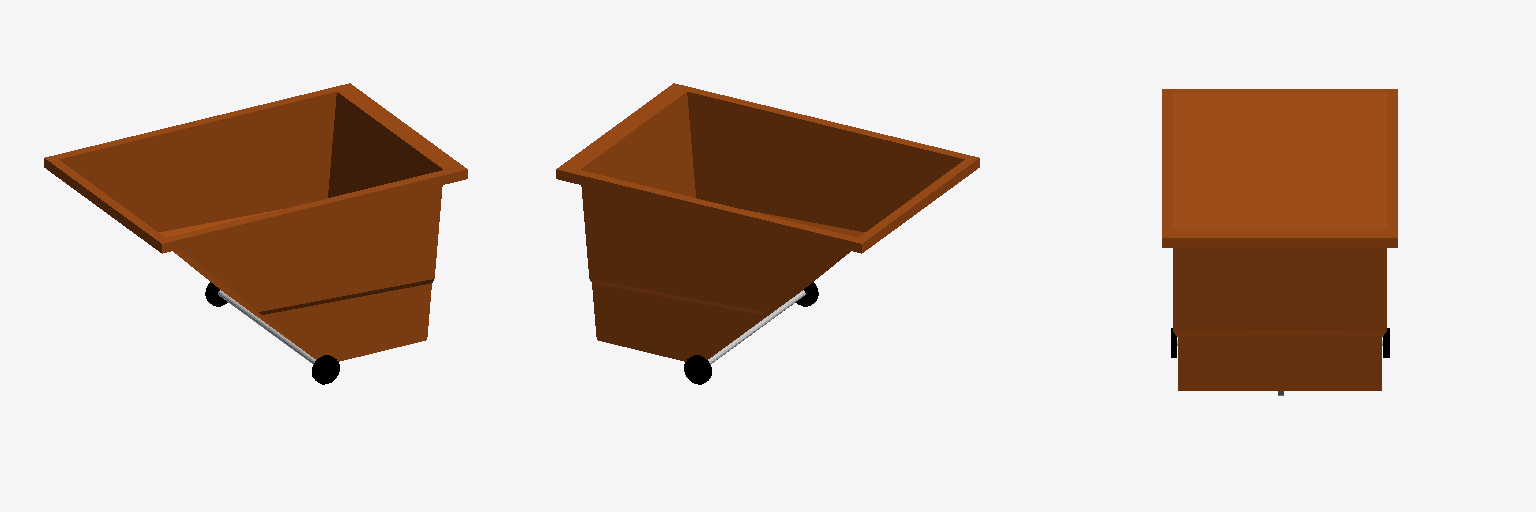
The model's file is orangetrashcan.obj.
3 views of the same model, side by side, from view 1: azimuth 30°, elevation 25°; view 2: azimuth 150°, elevation 25°; view 3: azimuth 270°, elevation 25° (orthographic).
Bounding box in the file's own units: 3.3 × 1.91 × 2.2.